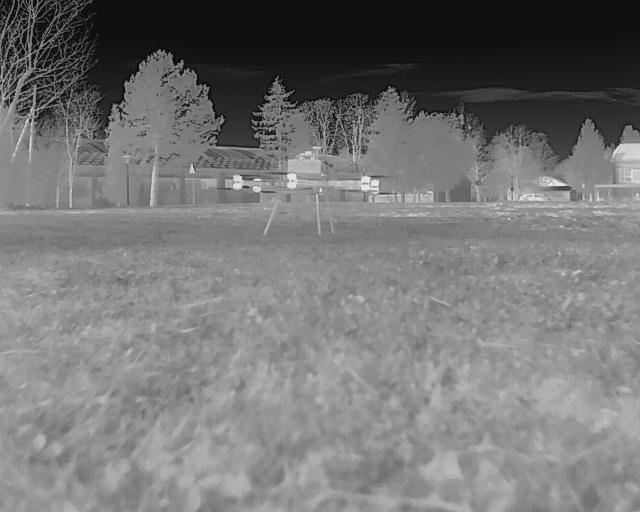drone: (215, 142, 390, 250)
